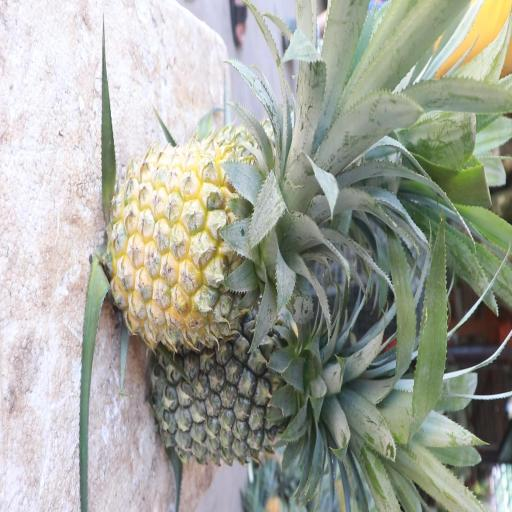Pineapple - v8 v1: (109, 138, 336, 346)
